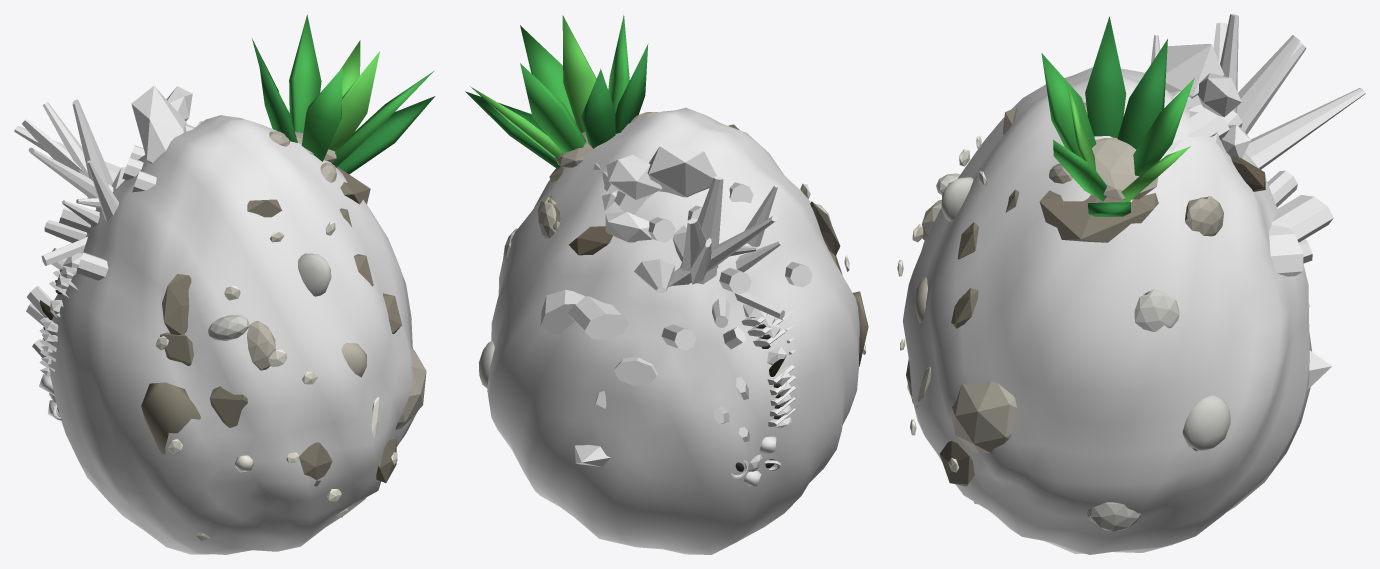
Rendered from Ei1Fertig_EP.fbx.
3 views of the same model, side by side, from view 1: azimuth 30°, elevation 25°; view 2: azimuth 150°, elevation 25°; view 3: azimuth 270°, elevation 25° (orthographic). The views are drawn at different scales.
Parts seen in each view (by area): view 1: Kies-Ei.004, Kiesel_Sockel_09, Wirbel_07, Blatt_07, Blatt_02, Blatt_05, Blatt_03, Kiesel_Sockel_06, Blatt_04, Blatt_01, Anomalie_Dorn_L.004, Kiesel_15 (+18 smaller); view 2: Kies-Ei.004, Wirbel_07, Blatt_07, Blatt_03, Blatt_08, Brustbein_Segment_03, Blatt_04, Brustbein_Knoten_06, Blatt_01, Anomalie_Dorn_L.004, Anomalie_Dorn_L.005, Blatt_05 (+20 smaller); view 3: Kies-Ei.004, Kiesel_12, Kiesel_Sockel_17.001, Blatt_01, Anomalie_Dorn_L, Blatt_08, Blatt_02, Kiesel_20, Wirbel_07, Blatt_07, Kiesel_22, Anomalie_Dorn_L.006 (+19 smaller).
Part boxes in pixels (box(x1,y1,x2,y2)): Kies-Ei.004: box(47, 115, 417, 554); Kiesel_Sockel_09: box(141, 382, 200, 454); Wirbel_07: box(131, 86, 186, 163); Blatt_07: box(289, 14, 321, 132); Blatt_02: box(301, 67, 342, 161); Blatt_05: box(337, 96, 435, 174); Blatt_03: box(328, 51, 379, 151); Kiesel_Sockel_06: box(162, 274, 191, 334); Blatt_04: box(332, 70, 434, 167); Blatt_01: box(257, 52, 297, 142); Anomalie_Dorn_L.004: box(72, 99, 113, 208); Kiesel_15: box(298, 253, 331, 296); Kies-Ei.004: box(487, 107, 859, 554); Wirbel_07: box(647, 146, 716, 197); Blatt_07: box(520, 63, 586, 153); Blatt_03: box(562, 15, 596, 132); Blatt_08: box(581, 69, 615, 148); Brustbein_Segment_03: box(568, 296, 628, 339); Blatt_04: box(520, 25, 575, 122); Brustbein_Knoten_06: box(606, 154, 661, 199); Blatt_01: box(615, 44, 648, 133); Anomalie_Dorn_L.004: box(680, 176, 723, 284); Anomalie_Dorn_L.005: box(669, 215, 777, 286); Blatt_05: box(465, 91, 559, 168); Kies-Ei.004: box(903, 67, 1311, 554); Kiesel_12: box(951, 381, 1016, 453); Kiesel_Sockel_17.001: box(1039, 190, 1158, 242); Blatt_01: box(1085, 16, 1125, 137); Anomalie_Dorn_L: box(1245, 88, 1365, 169); Blatt_08: box(1117, 39, 1167, 149); Blatt_02: box(1041, 53, 1096, 156); Kiesel_20: box(1092, 137, 1158, 199); Wirbel_07: box(1145, 44, 1224, 98); Blatt_07: box(1133, 78, 1194, 176); Kiesel_22: box(1182, 395, 1230, 451); Anomalie_Dorn_L.006: box(1236, 35, 1299, 131).
Bounding box in the file's own units: 238 × 303 × 241.
